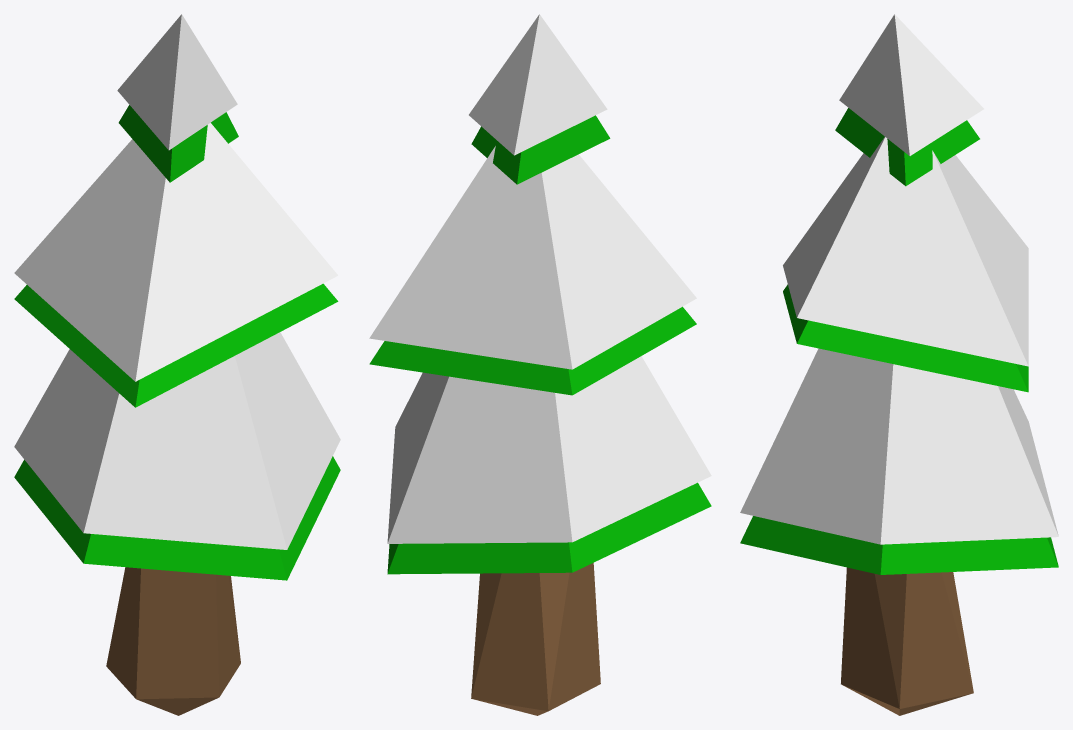
Rendered from spruce-snow.glb.
The picture shows the model from 3 angles, left to right: view 1: azimuth 30°, elevation 25°; view 2: azimuth 150°, elevation 25°; view 3: azimuth 270°, elevation 25°; orthographic projection.
Visible parts, largest first — view 1: Circle; view 2: Circle; view 3: Circle.
Part boxes in pixels (box(x1,y1,x2,y2)): Circle: box(14, 14, 340, 715); Circle: box(369, 14, 711, 715); Circle: box(740, 14, 1058, 715).
Size of what is drawn, in the model's own units: 1.93 by 4.52 by 1.86.
